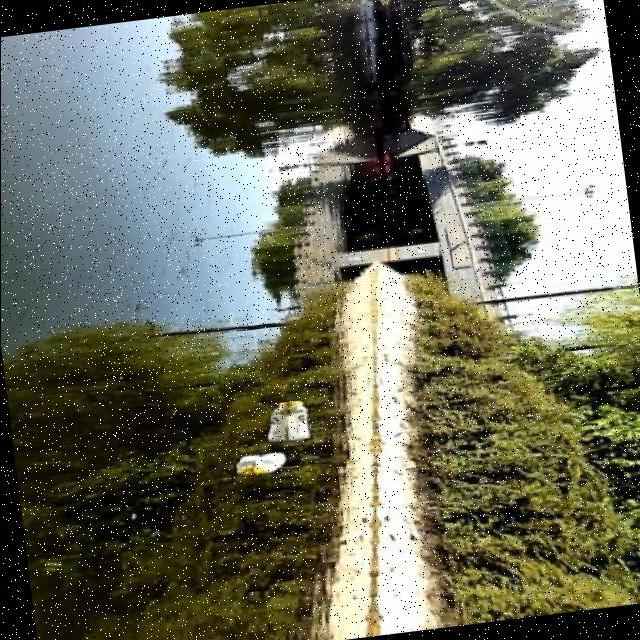Bottle: (282, 394, 316, 446), (245, 448, 288, 479)
